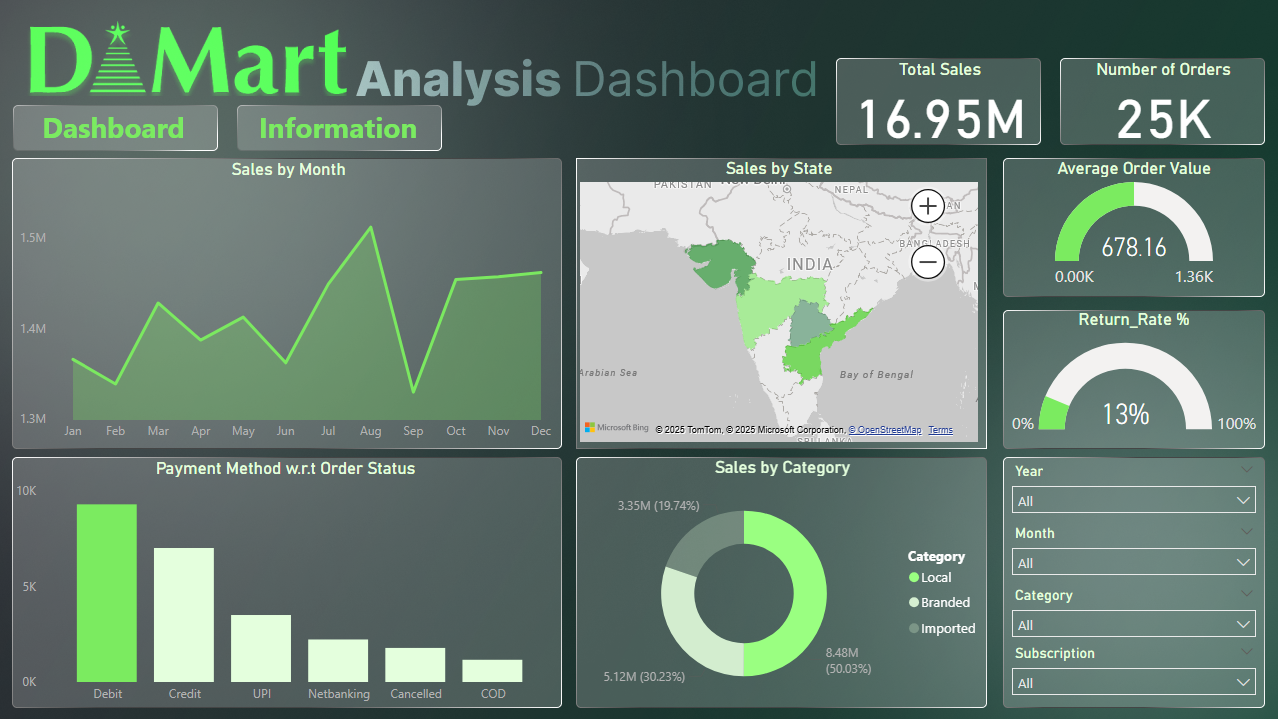

What the dashboard file says about the page in this screenshot:
{"tool":"powerbi","page":{"name":"Dmart Analysis","canvas":[1280,720],"ordinal":0},"visuals":[{"type":"gauge","title":"Average Order Value","fields":{"Y":["Dmart Dataset.Average_Order_Value"]},"box":[1003.2,158.5,263.4,138.9],"z":0},{"type":"card","title":"Total Sales","fields":{"Values":["Dmart Dataset.Total Sales"]},"box":[847.8,58.6,186.2,87.5],"z":1000},{"type":"areaChart","title":"Sales by Month","fields":{"Category":["Dmart Dataset.Month Short"],"Y":["Dmart Dataset.Total Sales"]},"box":[15.4,159.5,548.4,289.1],"z":2000},{"type":"filledMap","title":"Sales by State","fields":{"Category":["Dmart Dataset.State"]},"box":[576.2,158.5,407.5,288.1],"z":3000},{"type":"donutChart","title":"Sales by Category","fields":{"Category":["Dmart Dataset.Category"],"Y":["Dmart Dataset.Total Sales"]},"box":[576.2,456.8,414.7,254.1],"z":4000},{"type":"columnChart","title":"Payment Method w.r.t  Order Status","fields":{"Category":["Dmart Dataset.Payment Method"],"Y":["CountNonNull(Dmart Dataset.Order Status)"]},"box":[12.3,457.9,548.4,254.1],"z":5000},{"type":"slicer","fields":{"Values":["Dmart Dataset.Year"]},"box":[1003.2,457.9,263.4,63.8],"z":6000},{"type":"slicer","fields":{"Values":["Dmart Dataset.Subscription"]},"box":[1003.3,640,263.3,68.9],"z":7000},{"type":"slicer","fields":{"Values":["Dmart Dataset.Month"]},"box":[1003.3,520,263.3,62.2],"z":8000},{"type":"slicer","fields":{"Values":["Dmart Dataset.Category"]},"box":[1003.3,582.2,263.3,60],"z":9000},{"type":"gauge","fields":{"Y":["Dmart Dataset.Return_Rate %"]},"box":[1003.2,308.7,263.4,139.9],"z":10000},{"type":"card","title":"Number of Orders","fields":{"Values":["Dmart Dataset.Number of Orders"]},"box":[1061.9,58.6,204.8,87.5],"z":11000},{"type":"actionButton","title":"Dashboard","box":[12.3,108,204.8,40.1],"z":11001},{"type":"actionButton","title":"Information","box":[236.7,108,204.8,40.1],"z":11002}]}

Visuals, with their boxes in screenshot pixels (x1, y1, x2, y2), scaled from the page's 1280x720 canvas onto the 1278x719 screenshot:
"Average Order Value" gauge: (left=1002, top=158, right=1265, bottom=297)
"Total Sales" card: (left=846, top=59, right=1032, bottom=146)
"Sales by Month" areaChart: (left=15, top=159, right=563, bottom=448)
"Sales by State" filledMap: (left=575, top=158, right=982, bottom=446)
"Sales by Category" donutChart: (left=575, top=456, right=989, bottom=710)
"Payment Method w.r.t  Order Status" columnChart: (left=12, top=457, right=560, bottom=711)
slicer - Dmart Dataset.Year: (left=1002, top=457, right=1265, bottom=521)
slicer - Dmart Dataset.Subscription: (left=1002, top=639, right=1265, bottom=708)
slicer - Dmart Dataset.Month: (left=1002, top=519, right=1265, bottom=581)
slicer - Dmart Dataset.Category: (left=1002, top=581, right=1265, bottom=641)
gauge - Dmart Dataset.Return_Rate %: (left=1002, top=308, right=1265, bottom=448)
"Number of Orders" card: (left=1060, top=59, right=1265, bottom=146)
"Dashboard" actionButton: (left=12, top=108, right=217, bottom=148)
"Information" actionButton: (left=236, top=108, right=441, bottom=148)
